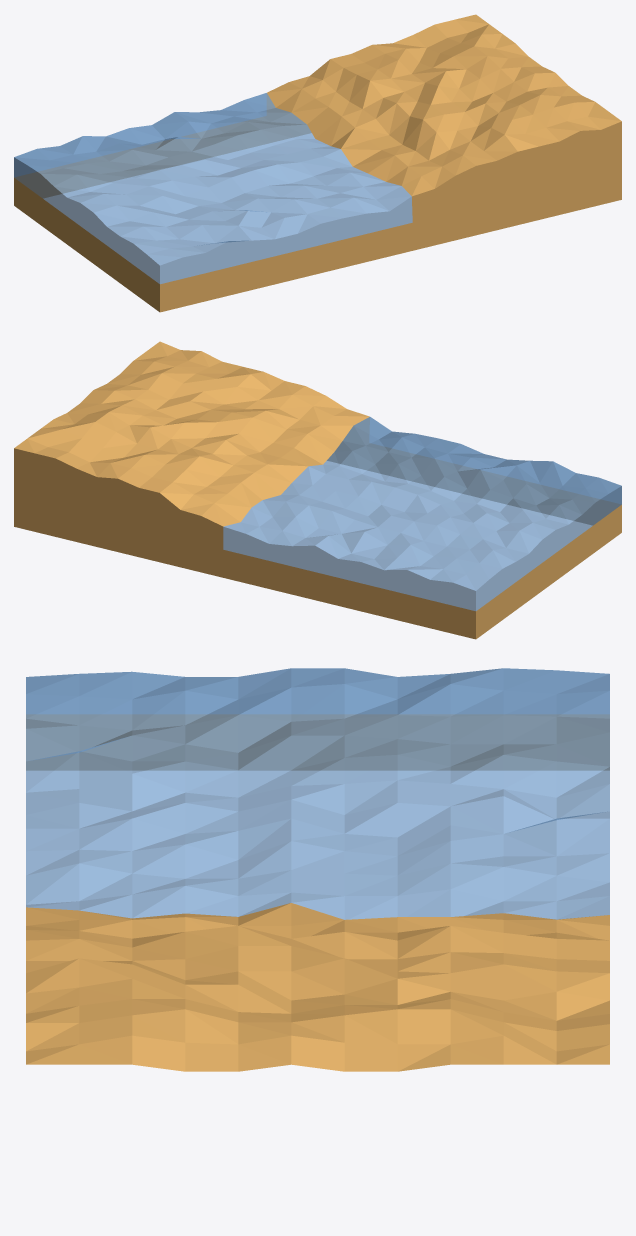
The model's file is land 1.fbx.
The picture shows the model from 3 angles, top to bottom: view 1: azimuth 30°, elevation 25°; view 2: azimuth 150°, elevation 25°; view 3: azimuth 270°, elevation 25°; orthographic projection. The views are drawn at different scales.
Visible parts, largest first — view 1: Plane; view 2: Plane; view 3: Plane.
Boxes of the visible parts, <box> form: Plane: <box>14,14,621,312</box>; Plane: <box>14,341,621,639</box>; Plane: <box>26,668,609,1071</box>.
Bounding box in the file's own units: 3.66 × 0.6494 × 2.
